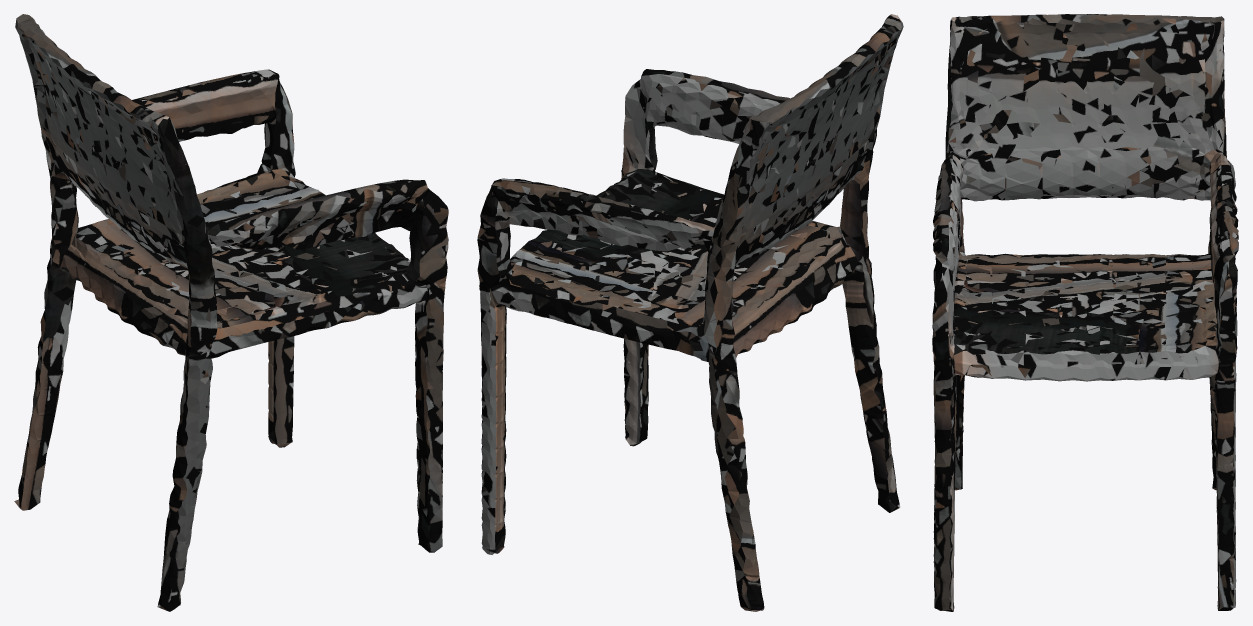
Rendered from elem_94_115_131_213_5_7.obj.
3 views of the same model, side by side, from view 1: azimuth 30°, elevation 25°; view 2: azimuth 150°, elevation 25°; view 3: azimuth 270°, elevation 25° (orthographic). The views are drawn at different scales.
Size of the model in its own units: 0.436 by 0.7032 by 0.4139.
Materials: 1 (1 with a texture image).
